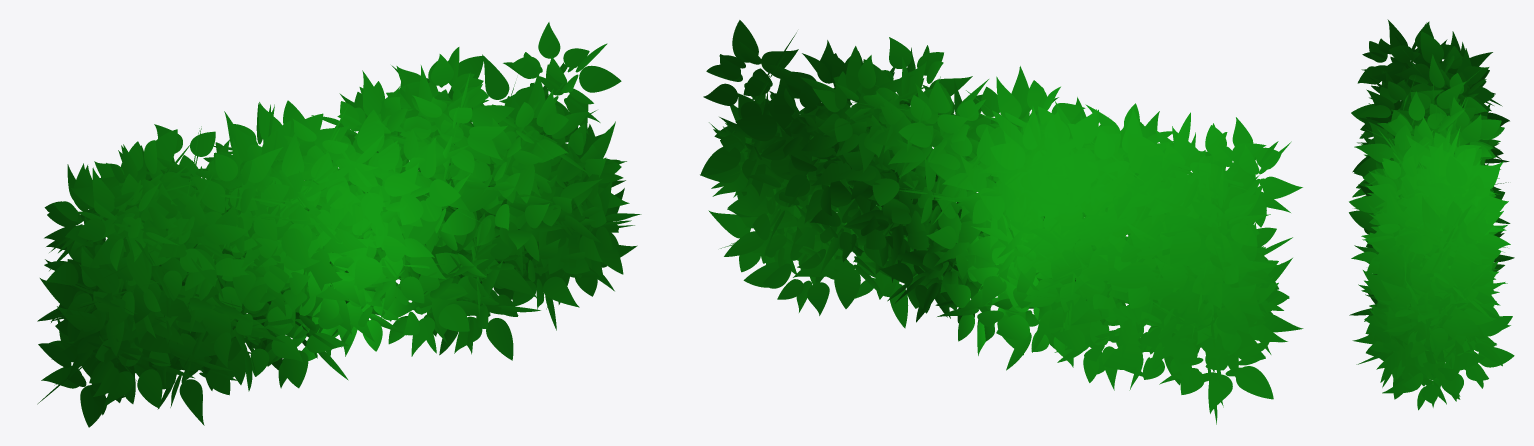
Rendered from Tori_PensasAita_LOD1.fbx.
3 renders of one model, left to right at view 1: azimuth 30°, elevation 25°; view 2: azimuth 150°, elevation 25°; view 3: azimuth 270°, elevation 25°, orthographic. The views are drawn at different scales.
Visible parts, largest first — view 1: PensasAita_LOD1; view 2: PensasAita_LOD1; view 3: PensasAita_LOD1.
Boxes of the visible parts, x1=… form: PensasAita_LOD1: x1=37, y1=22, x2=641, y2=427; PensasAita_LOD1: x1=700, y1=20, x2=1303, y2=424; PensasAita_LOD1: x1=1349, y1=19, x2=1514, y2=410.
Bounding box in the file's own units: 442 × 213 × 140.
